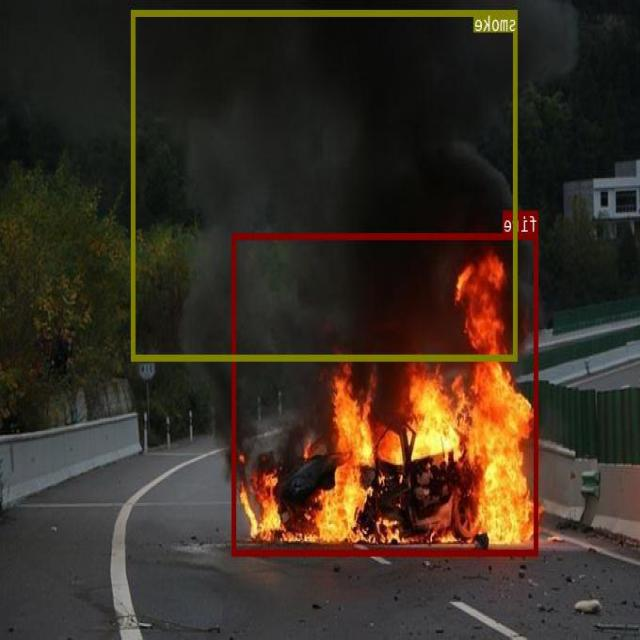fire: (233, 232, 539, 554)
smoke: (132, 10, 518, 359)
